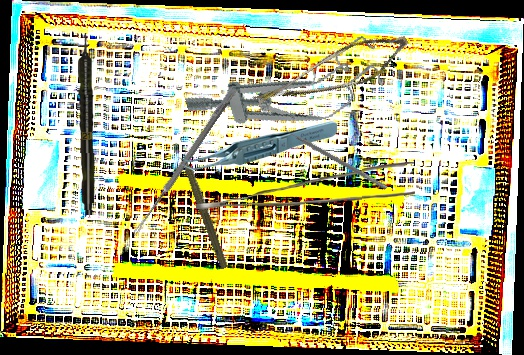Handpiece: (175, 144, 233, 271), (77, 32, 97, 216)
Micro Scissor: (250, 9, 415, 141)
Spatula Surgical: (281, 124, 391, 190)
Speculum: (181, 33, 390, 153)
Surgical Spoon: (131, 86, 237, 238)
Tissue Forceps: (195, 161, 415, 210), (177, 120, 337, 170)
